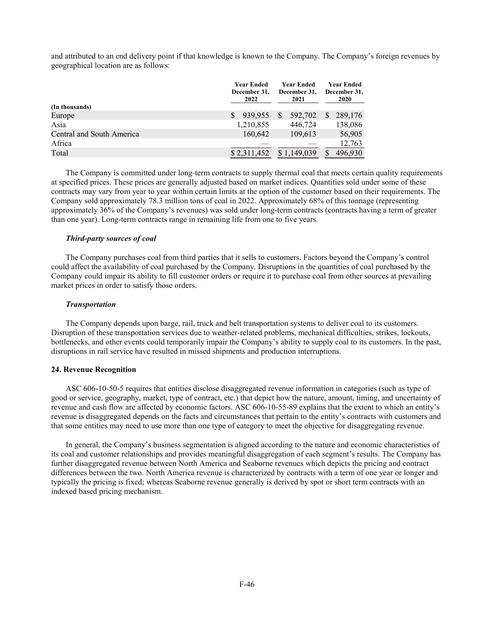box: (50, 81, 367, 162)
